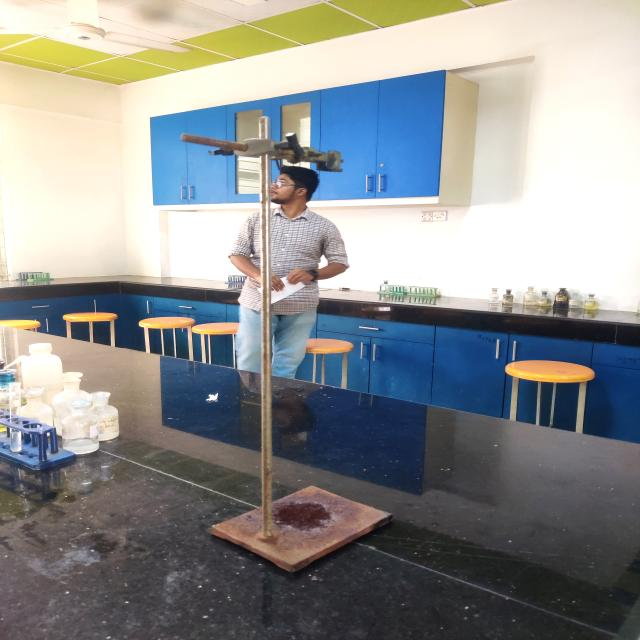Burette_Stands: (167, 120, 390, 584)
